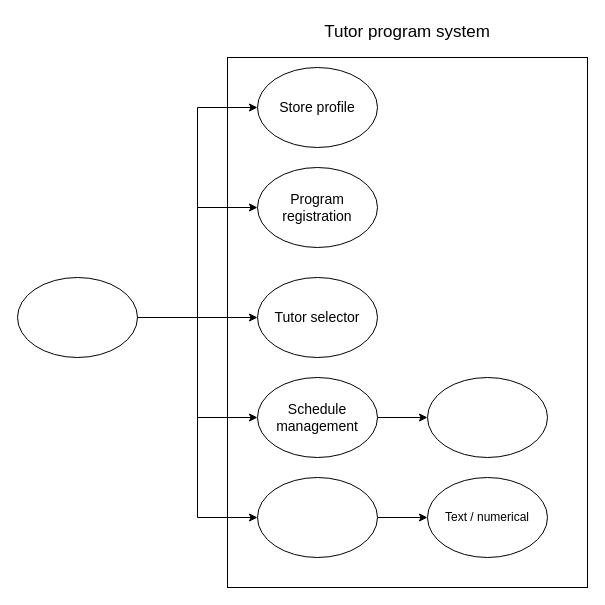
Image size: 605x605. Some labels were removed from this diagram. The shapes that lost their labels are listed below. From the top down, each one's centre as x and y in pixels, then its label:
At point 77,317: "Student".
At point 487,417: "Send notifications".
At point 317,517: "Feedback".
